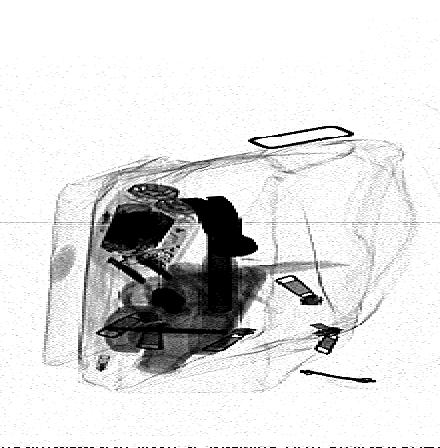Hammer: (176, 195, 257, 318)
